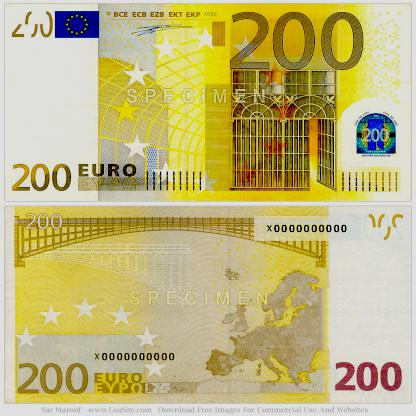euro_banknote: (5, 5, 413, 202), (6, 208, 413, 404)
